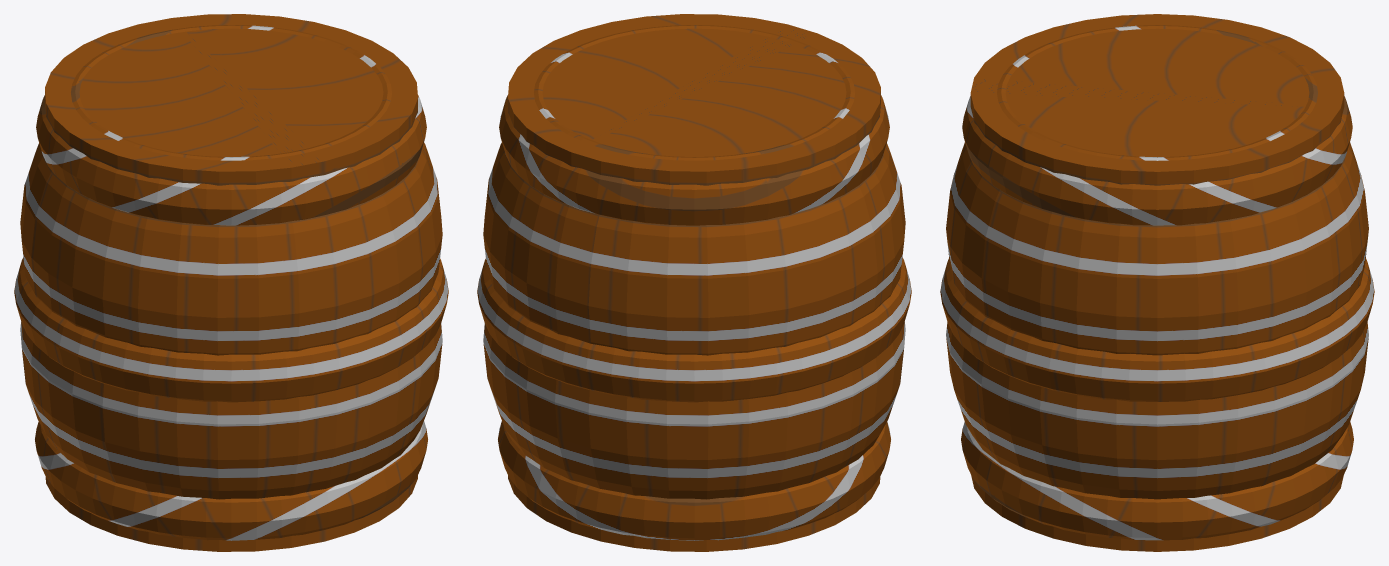
Rendered from tonneau.obj.
3 renders of one model, left to right at view 1: azimuth 30°, elevation 25°; view 2: azimuth 150°, elevation 25°; view 3: azimuth 270°, elevation 25°, orthographic.
Parts seen in each view (by area): view 1: Sphere.001, Cylinder, Sphere, Torus.002, Torus.001, Torus; view 2: Sphere.001, Cylinder, Sphere, Torus.002, Torus.001, Torus; view 3: Sphere.001, Cylinder, Sphere, Torus.002, Torus.001, Torus.
Part boxes in pixels (x1,y1,x2,y2): Sphere.001: (20, 142, 442, 355); Cylinder: (45, 14, 417, 551); Sphere: (20, 321, 442, 499); Torus.002: (14, 257, 448, 402); Torus.001: (36, 25, 426, 225); Torus: (35, 421, 427, 540); Sphere.001: (483, 142, 905, 355); Cylinder: (508, 14, 880, 551); Sphere: (483, 321, 905, 499); Torus.002: (477, 257, 911, 402); Torus.001: (499, 25, 889, 225); Torus: (498, 421, 890, 540); Sphere.001: (946, 142, 1368, 355); Cylinder: (970, 14, 1344, 551); Sphere: (946, 322, 1368, 499); Torus.002: (940, 258, 1374, 401); Torus.001: (962, 25, 1352, 225); Torus: (961, 422, 1353, 540).
Size of the model in its own units: 2.32 by 2.26 by 2.32.
Materials: 1 (1 with a texture image).
